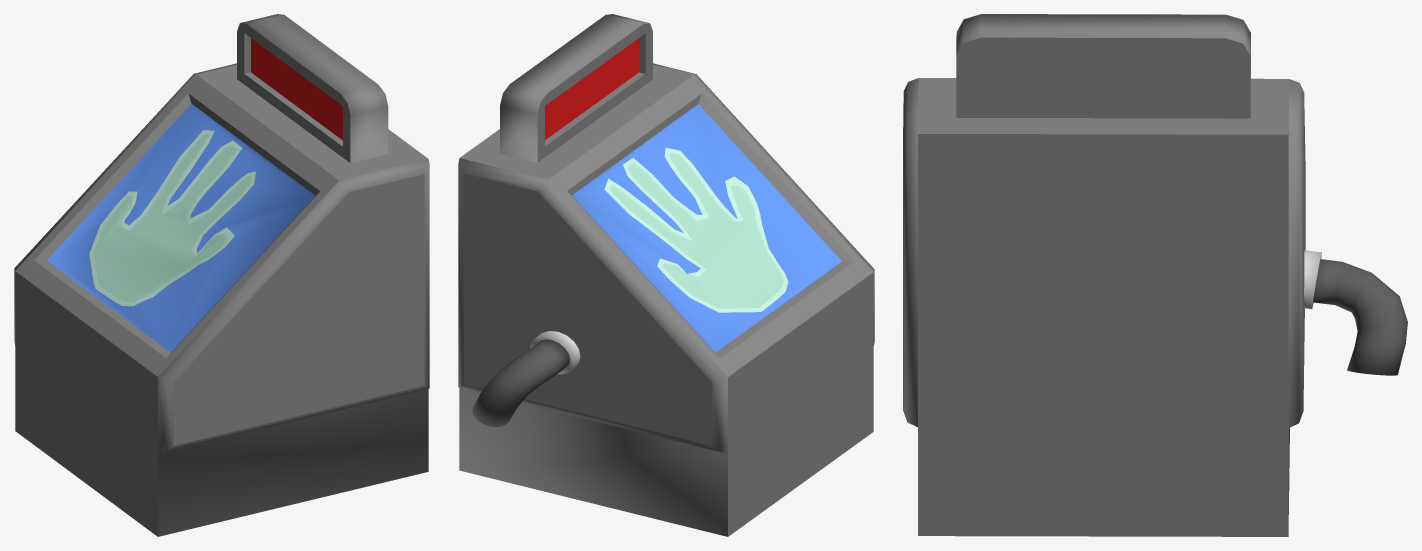
File: Hand_Scanner.glb
3 renders of one model, left to right at view 1: azimuth 30°, elevation 25°; view 2: azimuth 150°, elevation 25°; view 3: azimuth 270°, elevation 25°, orthographic. The views are drawn at different scales.
Parts seen in each view (by area): view 1: HandScanner; view 2: HandScanner; view 3: HandScanner.
Boxes of the visible parts, box(x1,y1,x2,y2) form: HandScanner: box(14, 14, 429, 536); HandScanner: box(458, 14, 874, 536); HandScanner: box(903, 14, 1407, 536).
Bounding box in the file's own units: 0.7028 × 0.929 × 0.8813.
Materials: 1 (1 with a texture image).
